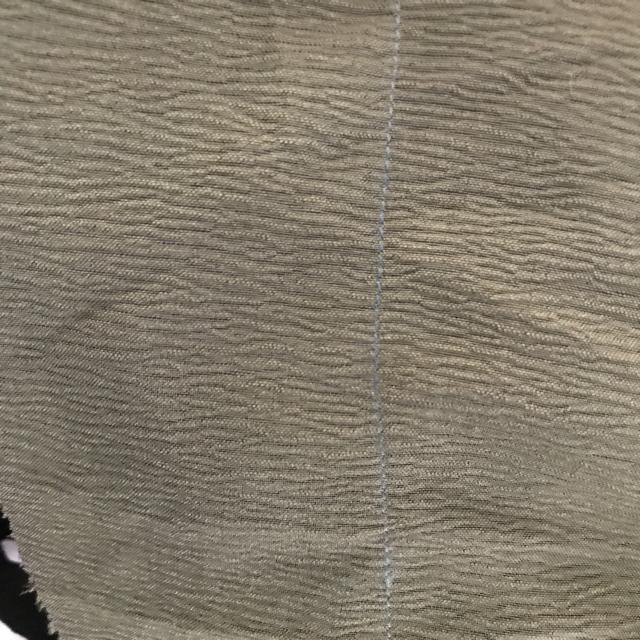good: (368, 45, 418, 196)
